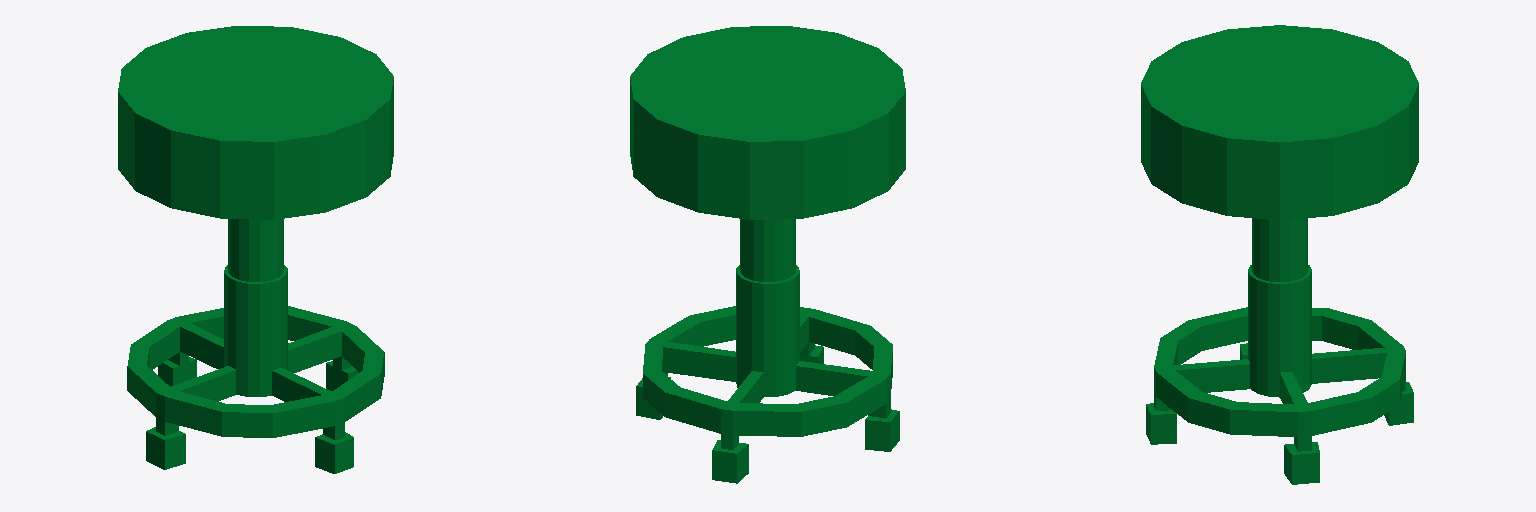
File: Science_room_chair.obj
3 renders of one model, left to right at view 1: azimuth 30°, elevation 25°; view 2: azimuth 150°, elevation 25°; view 3: azimuth 270°, elevation 25°, orthographic.
Parts seen in each view (by area): view 1: Cylinder002; view 2: Cylinder002; view 3: Cylinder002.
Part boxes in pixels (x1,y1,x2,y2): Cylinder002: (118, 26, 393, 473); Cylinder002: (630, 26, 905, 483); Cylinder002: (1141, 25, 1418, 484).
Size of the model in its own units: 0.4692 by 0.6406 by 0.4692.